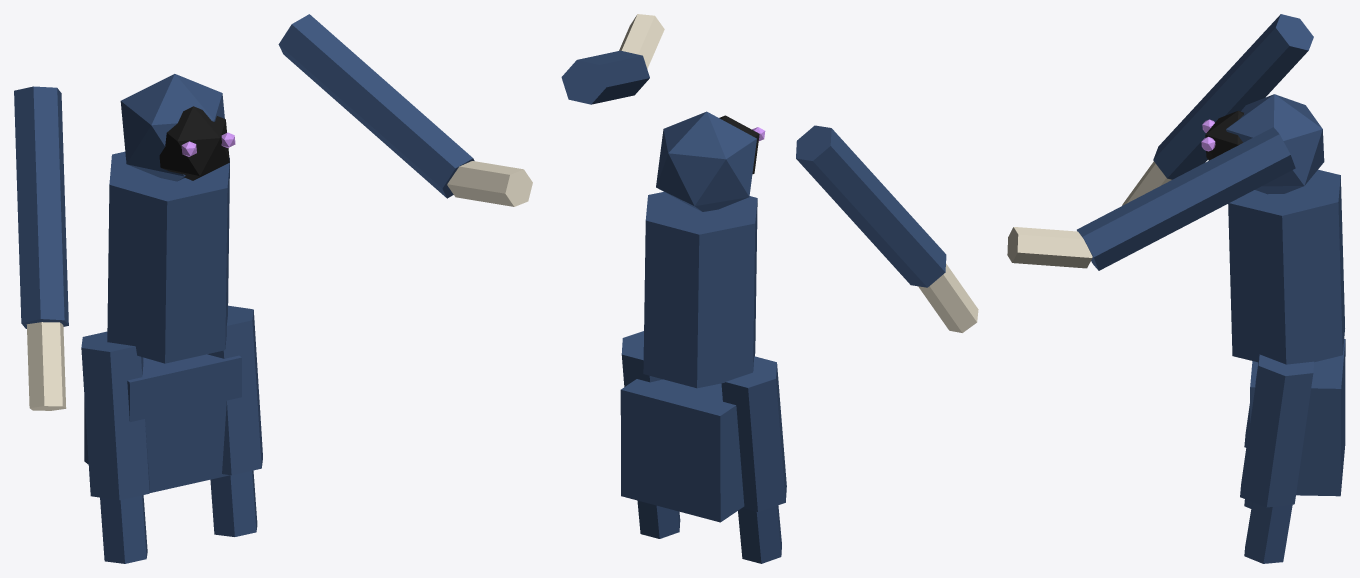
File: npcpose_wraith_attack_04.glb
The picture shows the model from 3 angles, left to right: view 1: azimuth 30°, elevation 25°; view 2: azimuth 150°, elevation 25°; view 3: azimuth 270°, elevation 25°; orthographic projection. The views are drawn at different scales.
Visible parts, largest first — view 1: npcpose; view 2: npcpose; view 3: npcpose.
Part boxes in pixels (bbox=[...]): npcpose: bbox=[14, 14, 532, 563]; npcpose: bbox=[561, 14, 978, 563]; npcpose: bbox=[1007, 14, 1345, 563].
Size of the model in its own units: 1.04 by 1.11 by 0.7423.
